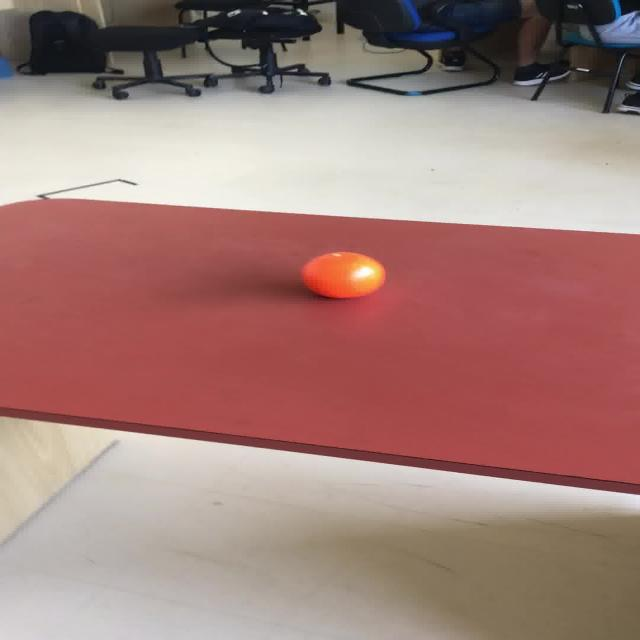orange: (300, 250, 385, 298)
